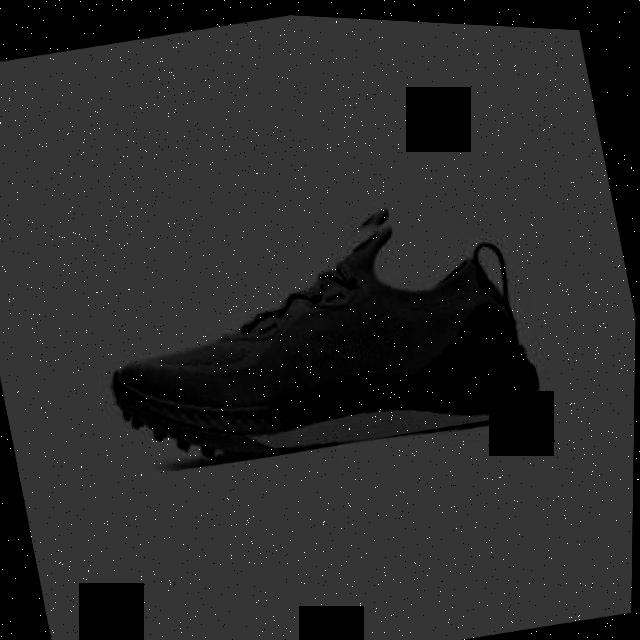shoe: (83, 163, 548, 493)
